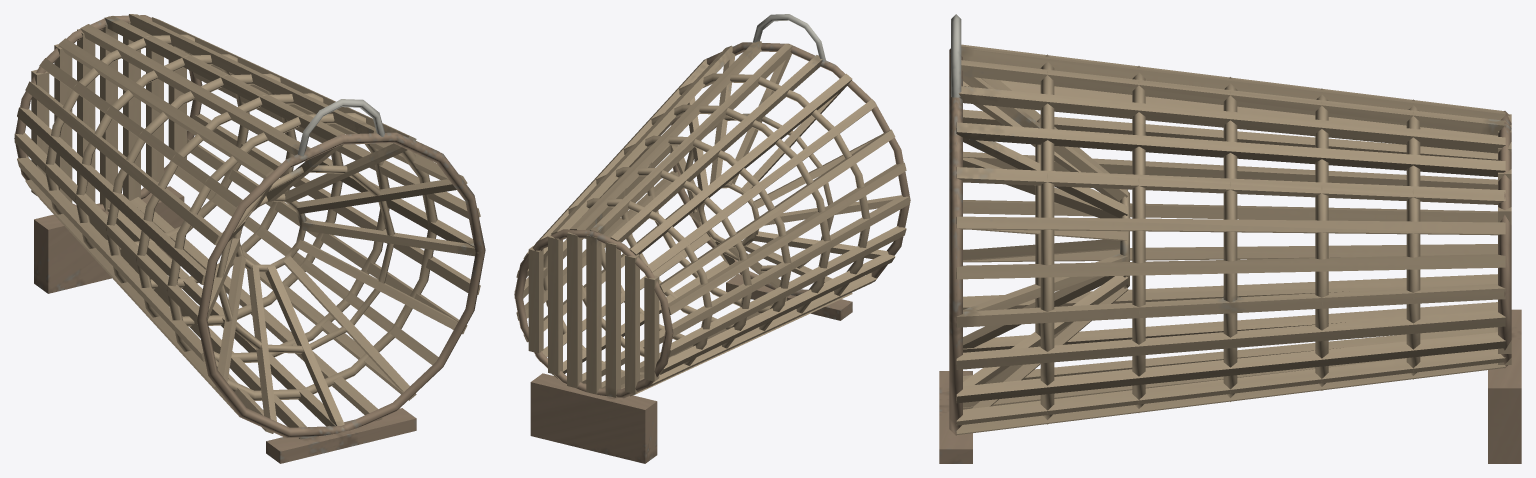
The model's file is lake_fishing_trap_basket.glb.
3 views of the same model, side by side, from view 1: azimuth 30°, elevation 25°; view 2: azimuth 150°, elevation 25°; view 3: azimuth 270°, elevation 25° (orthographic). The views are drawn at different scales.
Parts seen in each view (by area): view 1: FishingTrapBasket; view 2: FishingTrapBasket; view 3: FishingTrapBasket.
Boxes of the visible parts, bbox=[...] form: FishingTrapBasket: bbox=[14, 14, 485, 463]; FishingTrapBasket: bbox=[514, 14, 910, 463]; FishingTrapBasket: bbox=[939, 14, 1521, 463].
Size of the model in its own units: 0.466 by 0.5298 by 0.69.
Materials: 1 (1 with a texture image).
